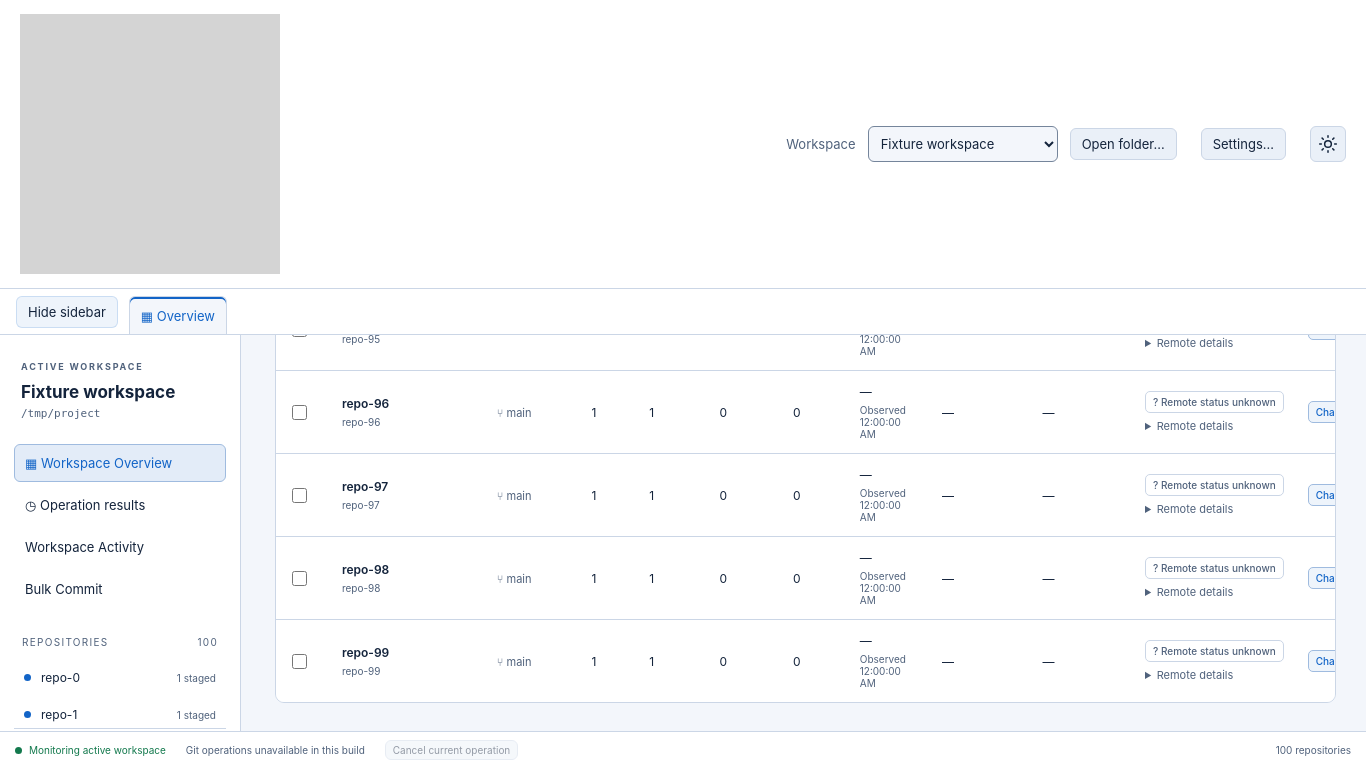
Scenario: renders and filters a 100-repository inventory without changing explicit selection
(page scrolled)
Click the checkbox named "Select repo-99" at (300, 661), box [292,654,307,669]
(page scrolled)
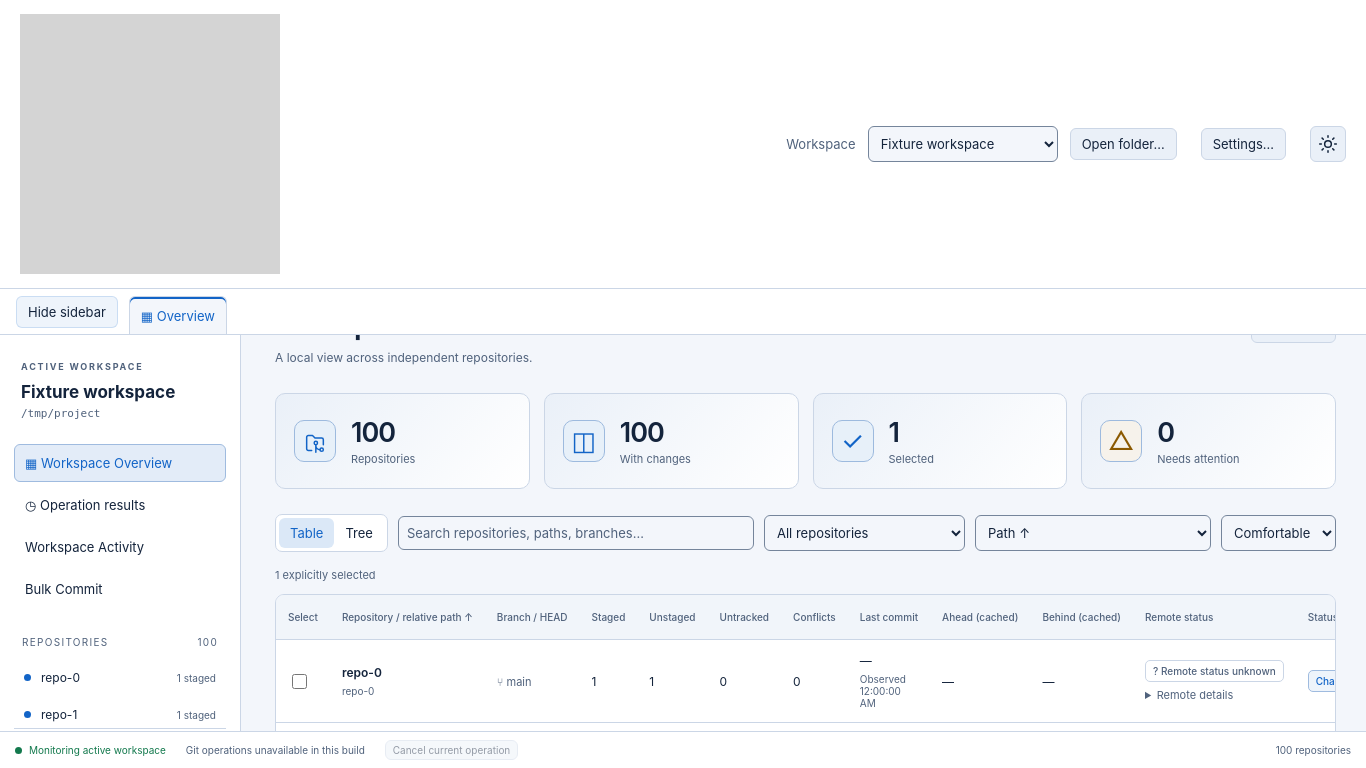
Type "repo-99" into the field named "Filter repositories" at (576, 533), box [398,516,754,550]
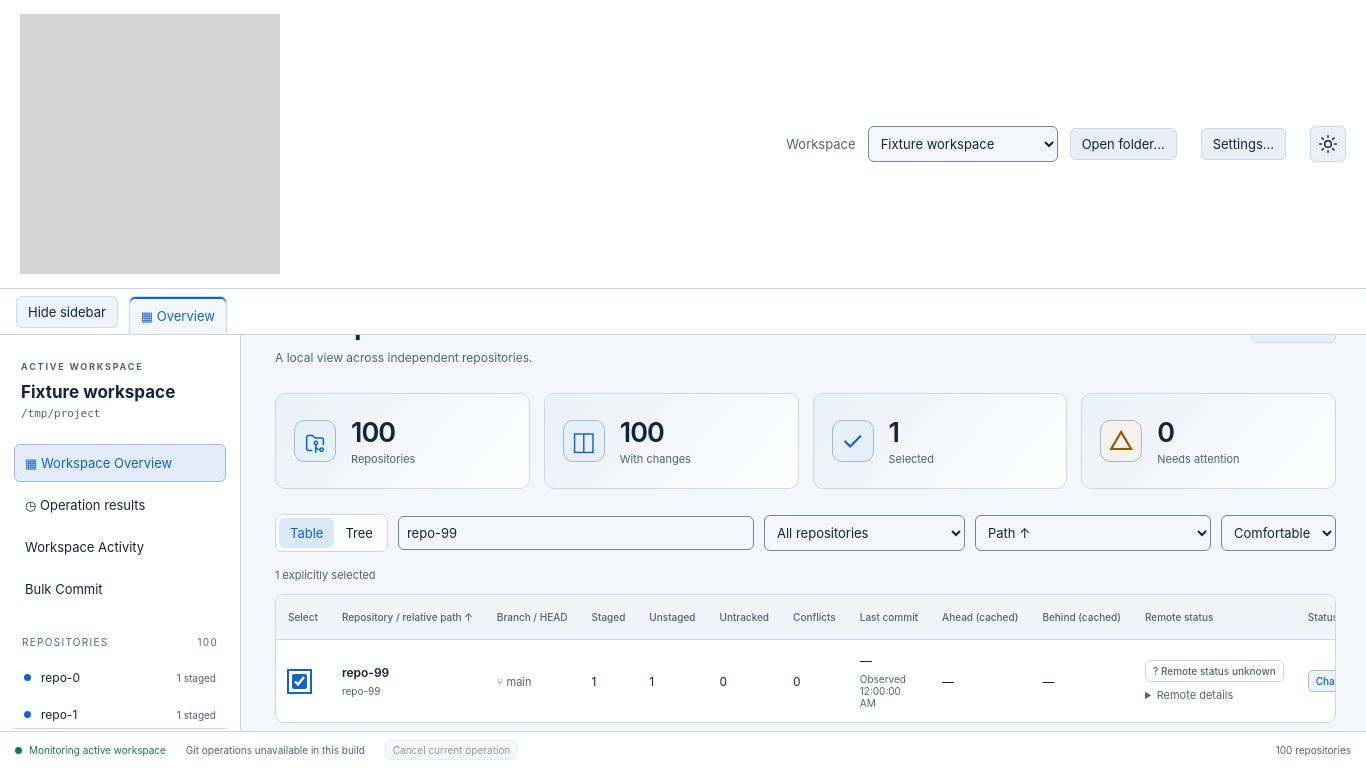
expect the checkbox named "Select repo-99" is checked: met, box [292,674,307,689]
